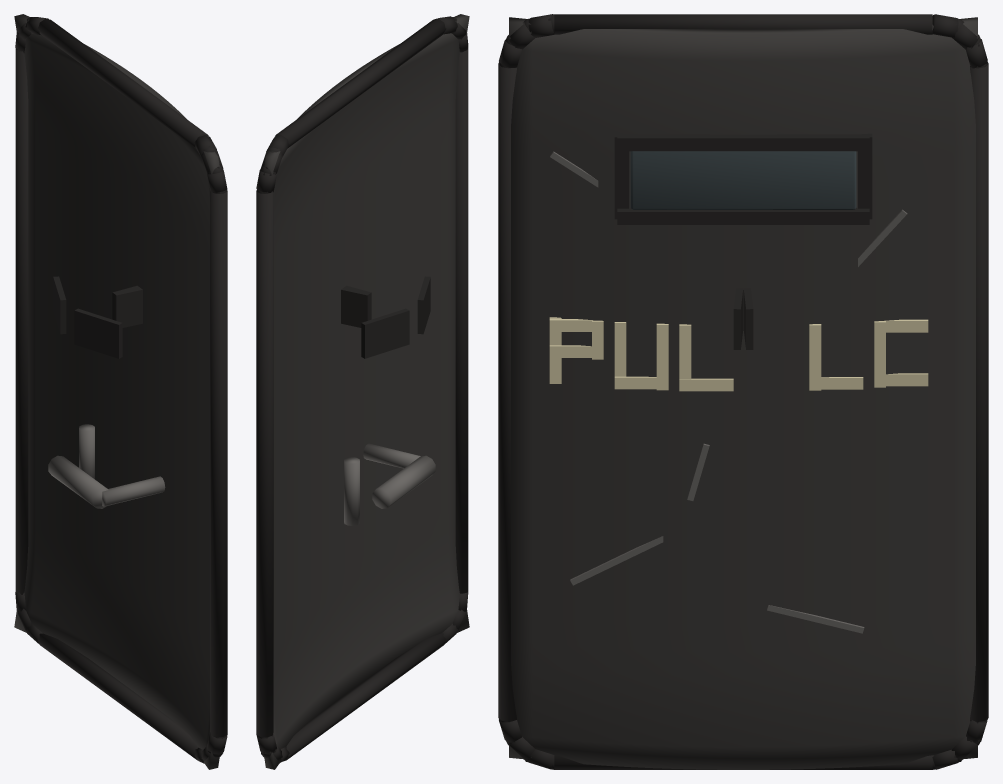
The model's file is item_riot_shield.glb.
3 views of the same model, side by side, from view 1: azimuth 30°, elevation 25°; view 2: azimuth 150°, elevation 25°; view 3: azimuth 270°, elevation 25° (orthographic). The views are drawn at different scales.
Visible parts, largest first — view 1: slab, rim_11, rim_3, rim_15, rim_7, cuff_1, handle, handle_post_0, cuff_0, handle_post_1, cuff_2; view 2: slab, rim_3, rim_11, rim_15, rim_7, cuff_2, handle, handle_post_1, cuff_3, handle_post_0, cuff_1; view 3: slab, view, rim_3, rim_11, rim_15, view_frame_0, view_frame_1, rim_7, view_frame_2, view_frame_3, police_1_1, police_4_0.
Boxes of the visible parts, x1,y1,x2,y2 form: slab: (14, 14, 219, 769); rim_11: (210, 191, 227, 737); rim_3: (15, 48, 28, 594); rim_15: (37, 18, 207, 147); rim_7: (37, 633, 197, 759); cuff_1: (74, 308, 122, 358); handle: (48, 455, 108, 508); handle_post_0: (102, 476, 165, 506); cuff_0: (114, 288, 142, 327); handle_post_1: (79, 424, 94, 479); cuff_2: (53, 276, 66, 334); slab: (264, 14, 469, 769); rim_3: (256, 191, 273, 737); rim_11: (455, 48, 468, 593); rim_15: (275, 18, 446, 148); rim_7: (286, 633, 446, 759); cuff_2: (361, 308, 409, 358); handle: (372, 455, 435, 508); handle_post_1: (344, 457, 359, 525); cuff_3: (341, 288, 369, 327); handle_post_0: (363, 443, 420, 468); cuff_1: (417, 276, 430, 334); slab: (509, 17, 977, 769); view: (630, 151, 856, 209); rim_3: (970, 64, 988, 721); rim_11: (498, 64, 516, 721); rim_15: (554, 14, 932, 34); view_frame_0: (617, 134, 869, 151); view_frame_1: (617, 208, 869, 224); rim_7: (554, 755, 932, 769); view_frame_2: (614, 133, 628, 219); view_frame_3: (858, 133, 872, 219); police_1_1: (656, 323, 668, 390); police_4_0: (809, 324, 821, 390).
Bounding box in the file's own units: 0.1808 × 0.924 × 0.544.
